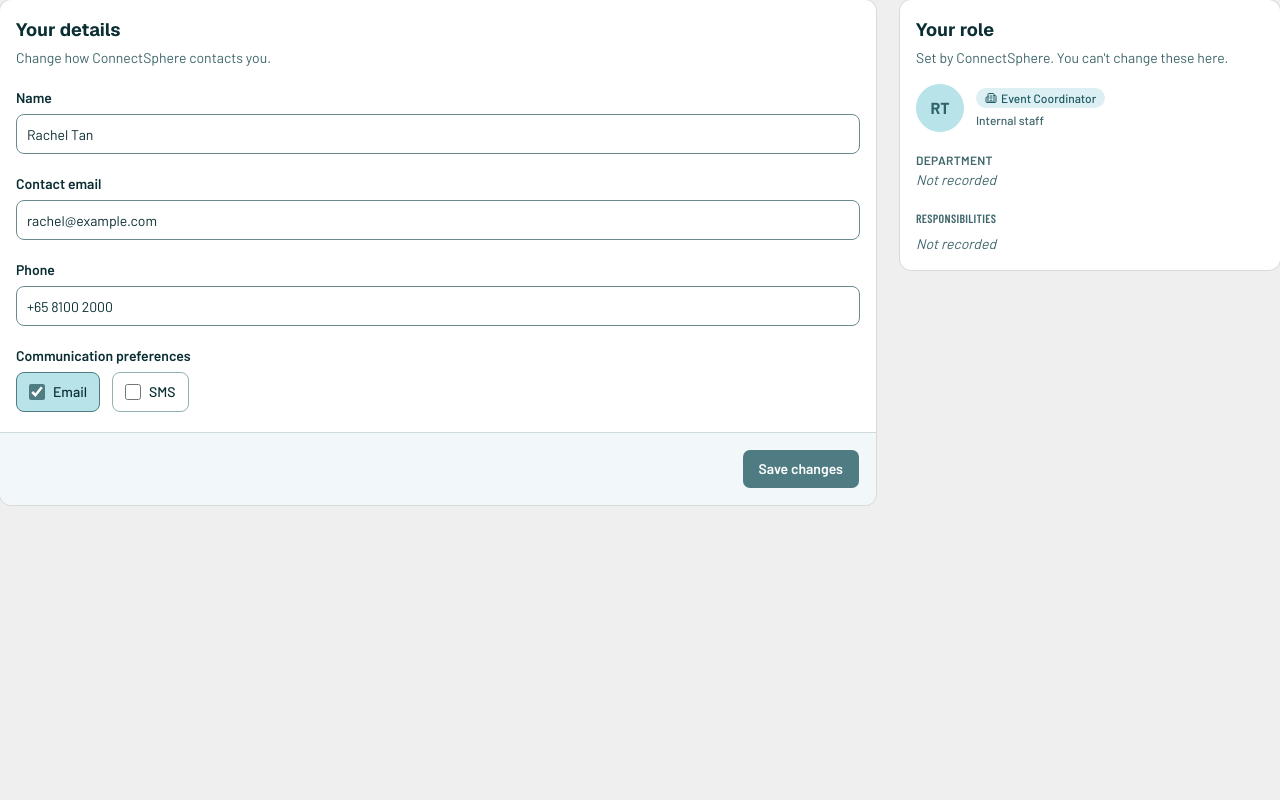
Test case: SCRUM-68/AC6 profile form: saving › 68-S13: shows a message at the top, not 'Profile updated.', when the database could not save
What coordinates should you click on to do the following:
click the button "Save changes"
I would click on:
 (801, 469)
Its box is [742,449,860,489].
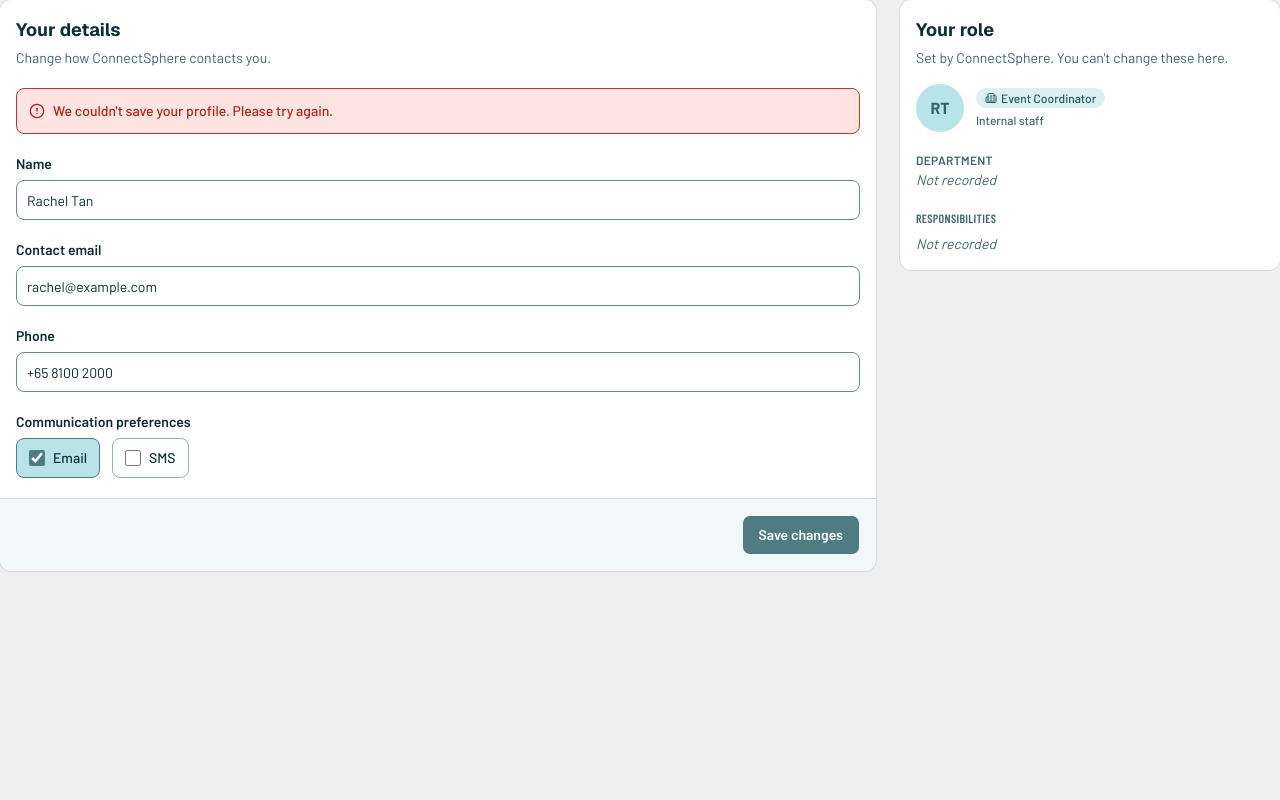
expect the message reads "We couldn't save your profile. Please try again.": met, box [53,102,333,119]
